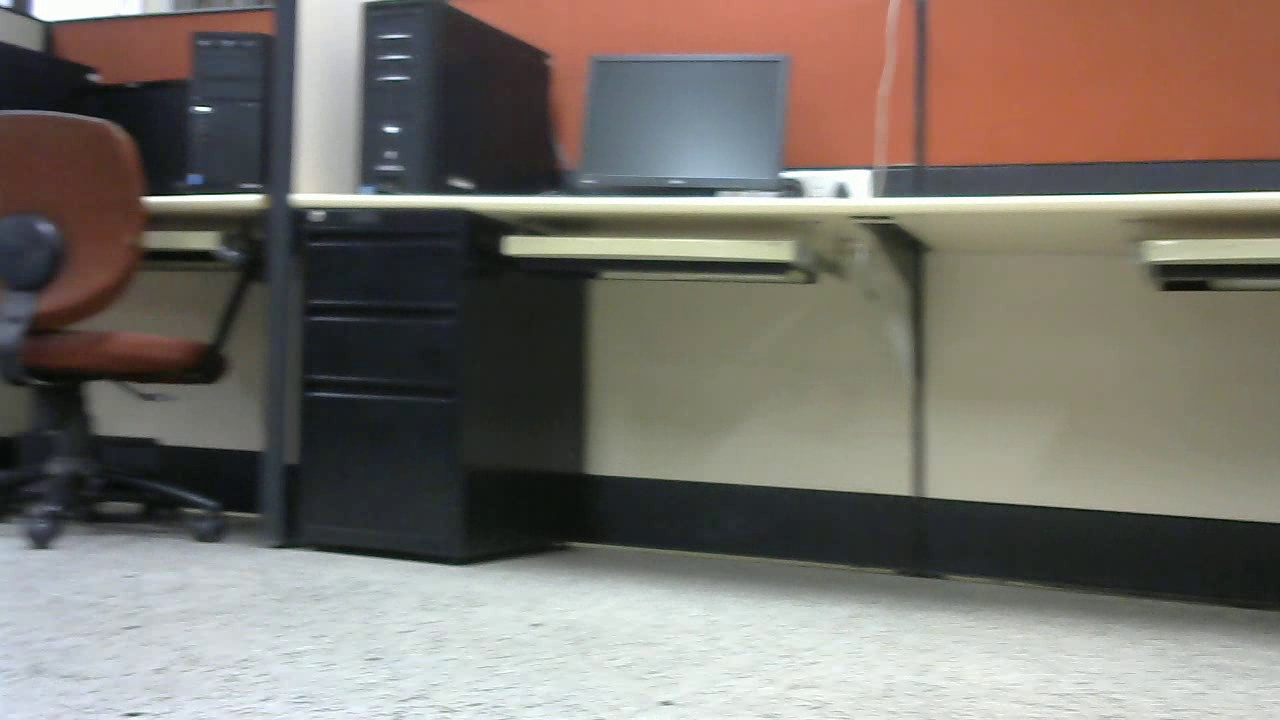chair: (2, 109, 263, 551)
